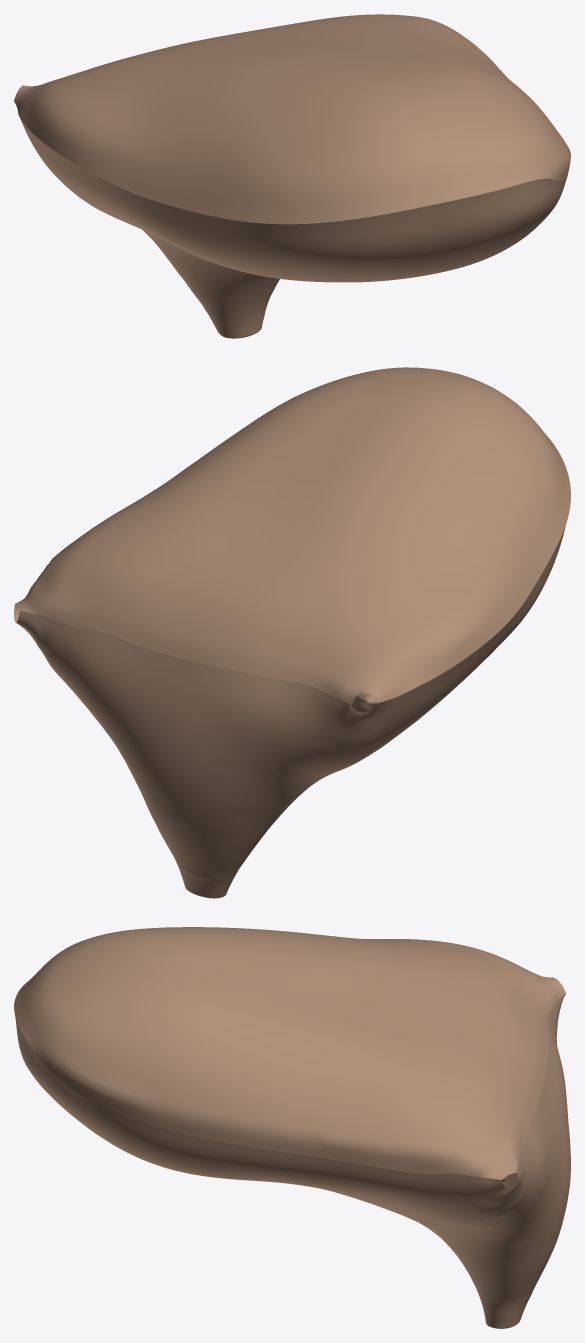
Rendered from 3DPX-020995.glb.
The picture shows the model from 3 angles, top to bottom: view 1: azimuth 30°, elevation 25°; view 2: azimuth 150°, elevation 25°; view 3: azimuth 270°, elevation 25°; orthographic projection. The views are drawn at different scales.
Parts seen in each view (by area): view 1: VH_F_fundus_of_urinary_bladder_dome, VH_F_fundus_of_urinary_bladder_base, VH_F_urinary_bladder_neck_smooth_muscle; view 2: VH_F_fundus_of_urinary_bladder_dome, VH_F_fundus_of_urinary_bladder_base, VH_F_urinary_bladder_neck_smooth_muscle; view 3: VH_F_fundus_of_urinary_bladder_dome, VH_F_fundus_of_urinary_bladder_base, VH_F_urinary_bladder_neck_smooth_muscle.
Part boxes in pixels (box(x1,y1,x2,y2)): VH_F_fundus_of_urinary_bladder_dome: box(14, 14, 570, 224); VH_F_fundus_of_urinary_bladder_base: box(19, 116, 566, 317); VH_F_urinary_bladder_neck_smooth_muscle: box(206, 303, 267, 338); VH_F_fundus_of_urinary_bladder_dome: box(15, 367, 570, 705); VH_F_fundus_of_urinary_bladder_base: box(14, 526, 565, 879); VH_F_urinary_bladder_neck_smooth_muscle: box(177, 864, 235, 898); VH_F_fundus_of_urinary_bladder_dome: box(14, 927, 565, 1179); VH_F_fundus_of_urinary_bladder_base: box(15, 994, 570, 1307); VH_F_urinary_bladder_neck_smooth_muscle: box(481, 1297, 529, 1328).
Bounding box in the file's own units: 0.5198 × 0.4422 × 0.617.
